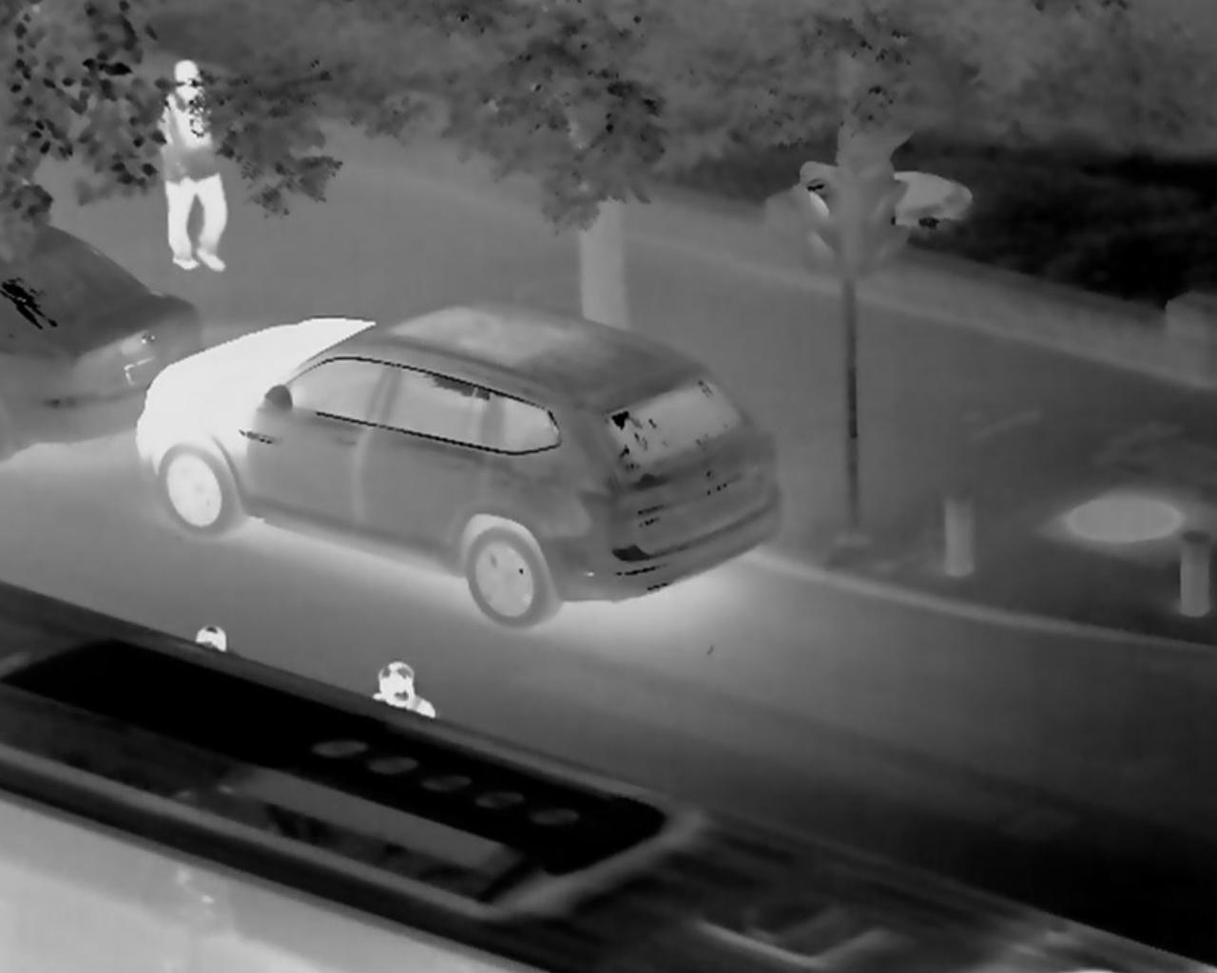person: (156, 61, 248, 288), (371, 653, 445, 709), (184, 611, 242, 645)
